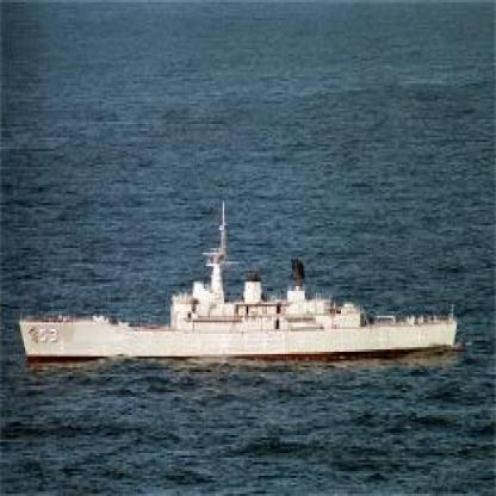Ship: (15, 265, 463, 362)
